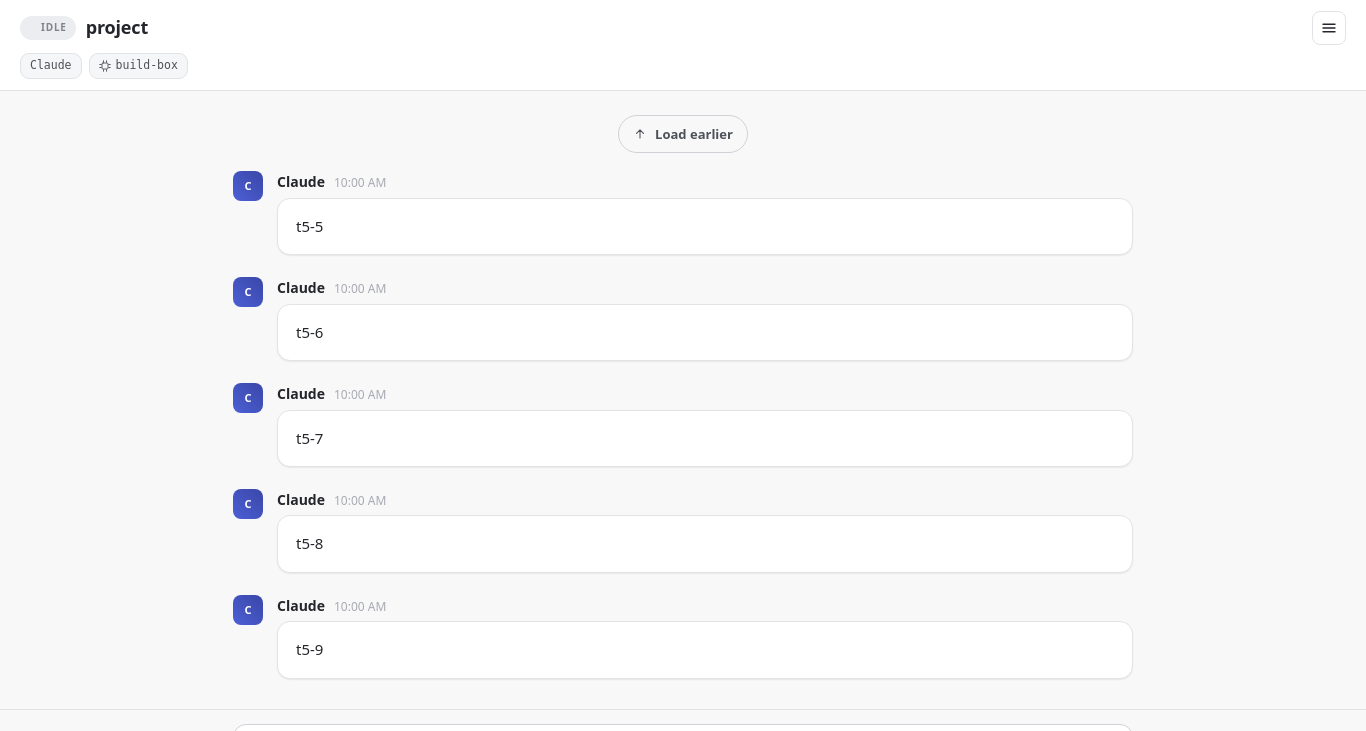
it: the tail window › goes back to the tail, and to the end, on a resync
The image size is (1366, 731).
(page scrolled)
Check: the text "t5-9" is shown, box [296, 639, 323, 659]
Click the button "Load earlier" at (683, 134), box [618, 115, 748, 153]
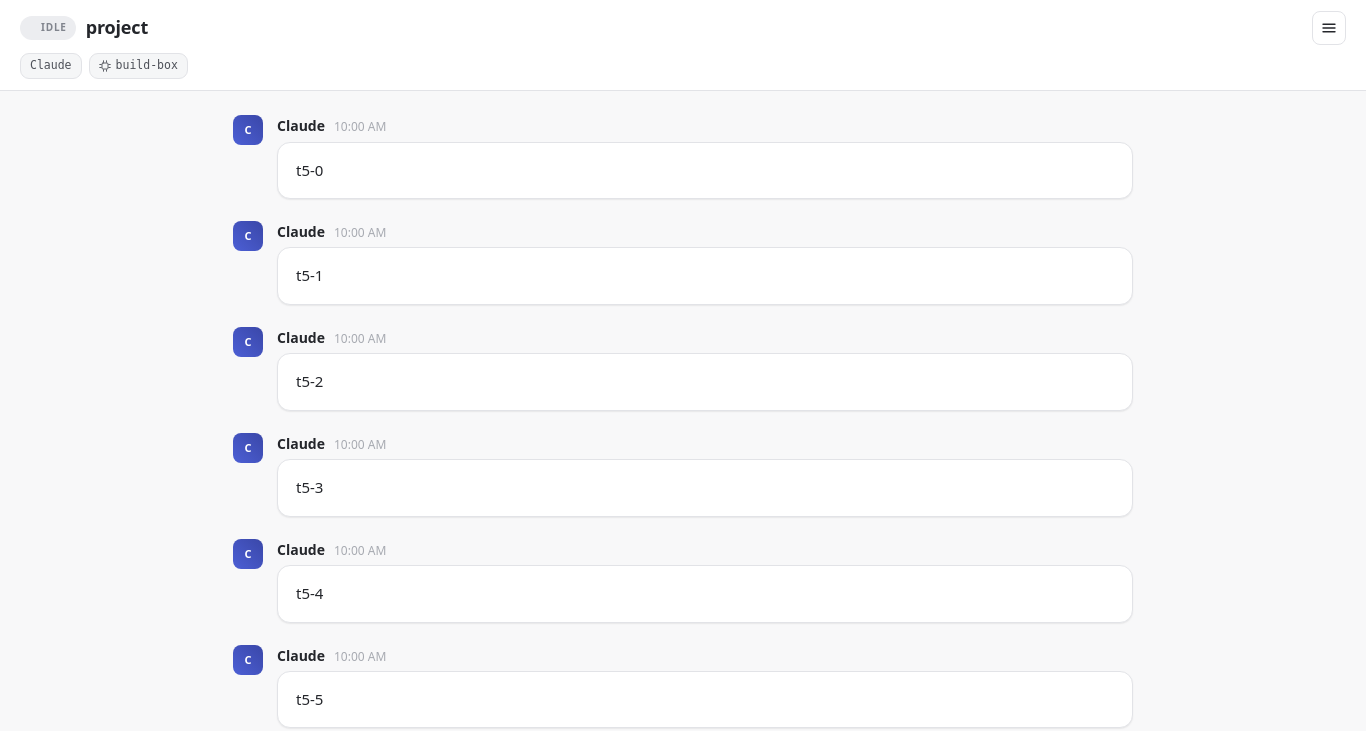
Check: the text "t5-0" is shown, box [296, 160, 323, 180]
